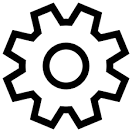settings: (1, 1, 130, 131)
